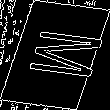M_E: (8, 27, 102, 83)
